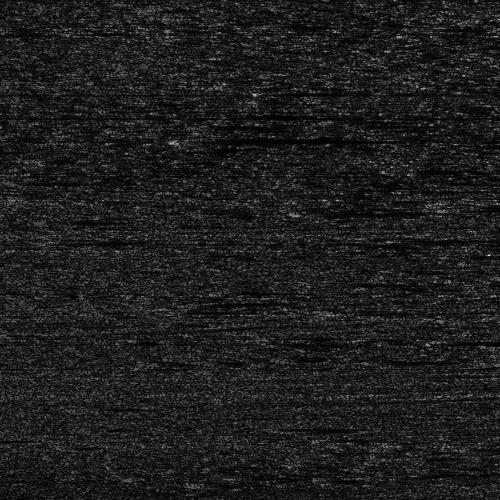object: (267, 204, 340, 219), (392, 203, 497, 212), (180, 133, 243, 144), (392, 337, 465, 344), (494, 255, 500, 272), (484, 358, 500, 363)
shadow: (211, 133, 416, 144), (304, 204, 401, 219), (444, 203, 500, 212), (429, 337, 500, 344)
